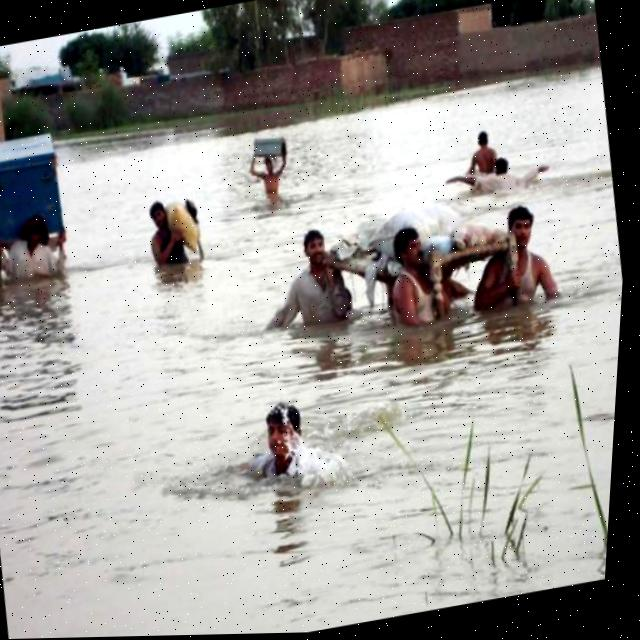civilian: (201, 368, 375, 528), (239, 199, 380, 366), (454, 201, 595, 346), (127, 166, 245, 310), (376, 208, 471, 360), (439, 140, 565, 221), (0, 200, 91, 308), (238, 123, 309, 233), (0, 189, 22, 319), (458, 116, 503, 175)
